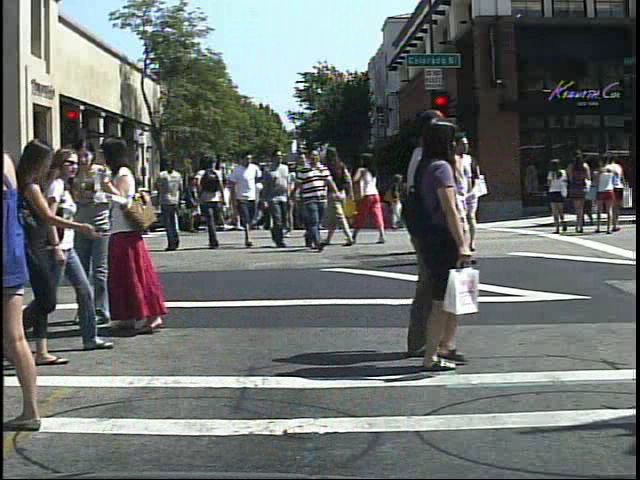person: (370, 115, 496, 381), (0, 87, 60, 438), (102, 133, 197, 343), (43, 140, 116, 353), (409, 104, 461, 365), (67, 134, 112, 337), (434, 128, 487, 260), (417, 131, 463, 261), (288, 143, 337, 255), (451, 134, 490, 258), (258, 144, 296, 253), (228, 148, 265, 254), (324, 140, 359, 248), (153, 153, 190, 255), (352, 146, 389, 248), (195, 154, 229, 251), (545, 153, 573, 238), (204, 169, 225, 238), (65, 182, 85, 232)
